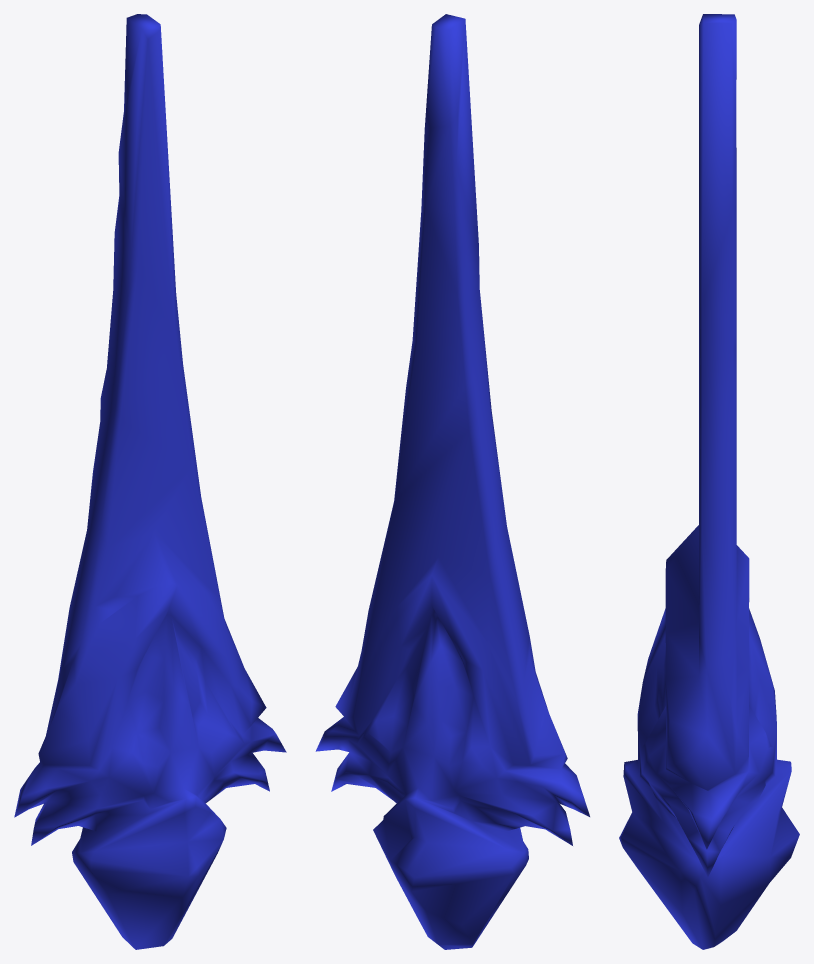
File: SM_SmallOrnament_B_002.FBX
3 renders of one model, left to right at view 1: azimuth 30°, elevation 25°; view 2: azimuth 150°, elevation 25°; view 3: azimuth 270°, elevation 25°, orthographic.
Parts seen in each view (by area): view 1: SM_SmallOrnament_B_002; view 2: SM_SmallOrnament_B_002; view 3: SM_SmallOrnament_B_002.
Boxes of the visible parts, left/top/right/bottom form: SM_SmallOrnament_B_002: left=14, top=14, right=286, bottom=949; SM_SmallOrnament_B_002: left=315, top=14, right=589, bottom=949; SM_SmallOrnament_B_002: left=619, top=14, right=799, bottom=949.
Size of the model in its own units: 121 by 390 by 69.33.
